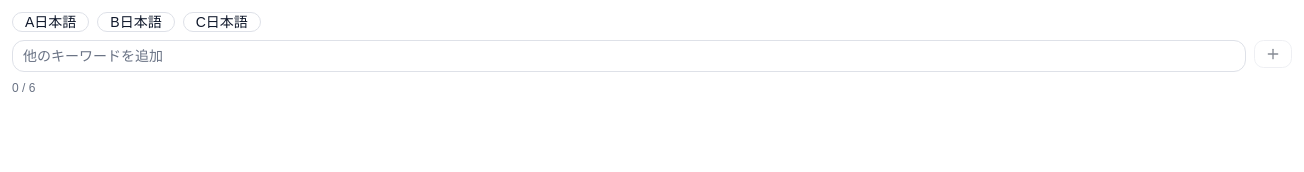
Test: FeedbackChipGroup › adds a custom chip on Enter
The width and height of the screenshot is (1304, 172).
Type "via-enter" into the field with placeholder "他のキーワードを追加" at point(629, 56), box x1=12 y1=40 x2=1246 y2=72
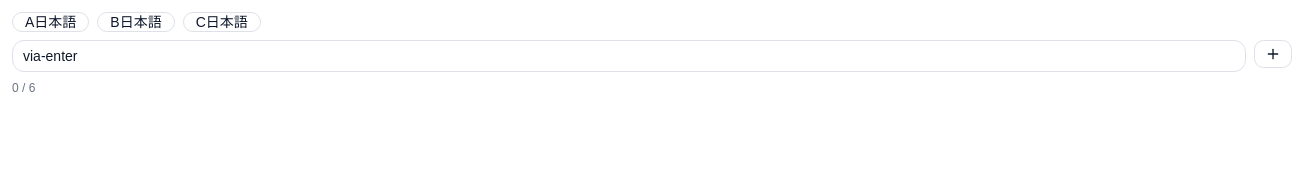
Press Enter in the field with placeholder "他のキーワードを追加", box x1=12 y1=40 x2=1246 y2=72
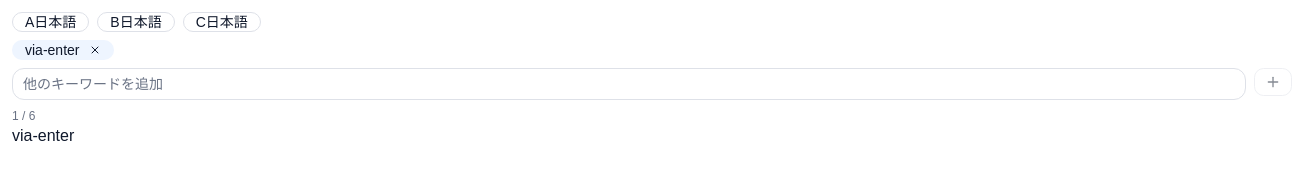
Result: the text with test id "value" reads "via-enter" at x1=12 y1=127 x2=74 y2=144
